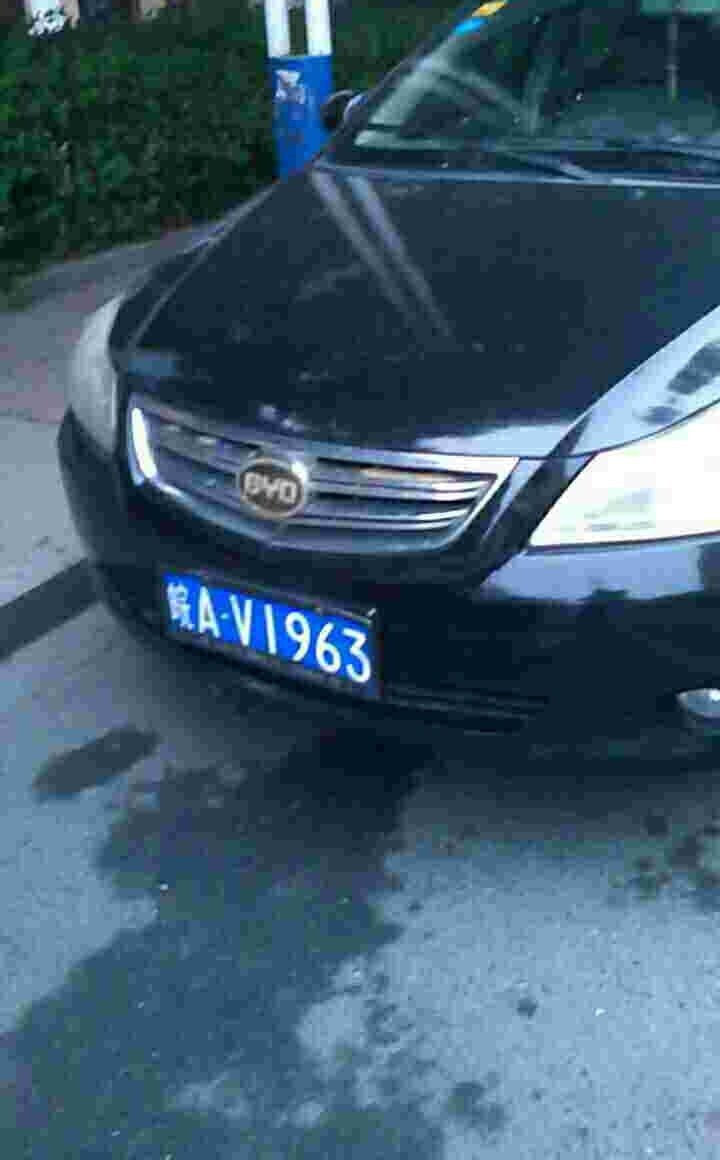license_plate: (172, 572, 366, 684)
